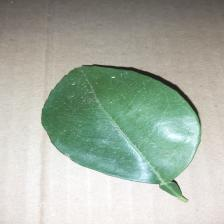healthy: (42, 64, 203, 186)
